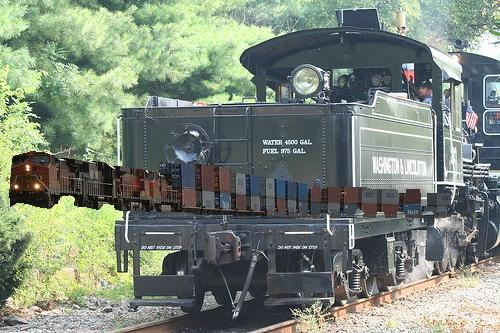tampered: (10, 152, 451, 218)
